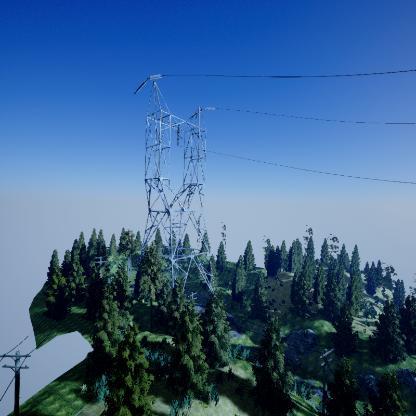tower: (134, 72, 218, 302)
